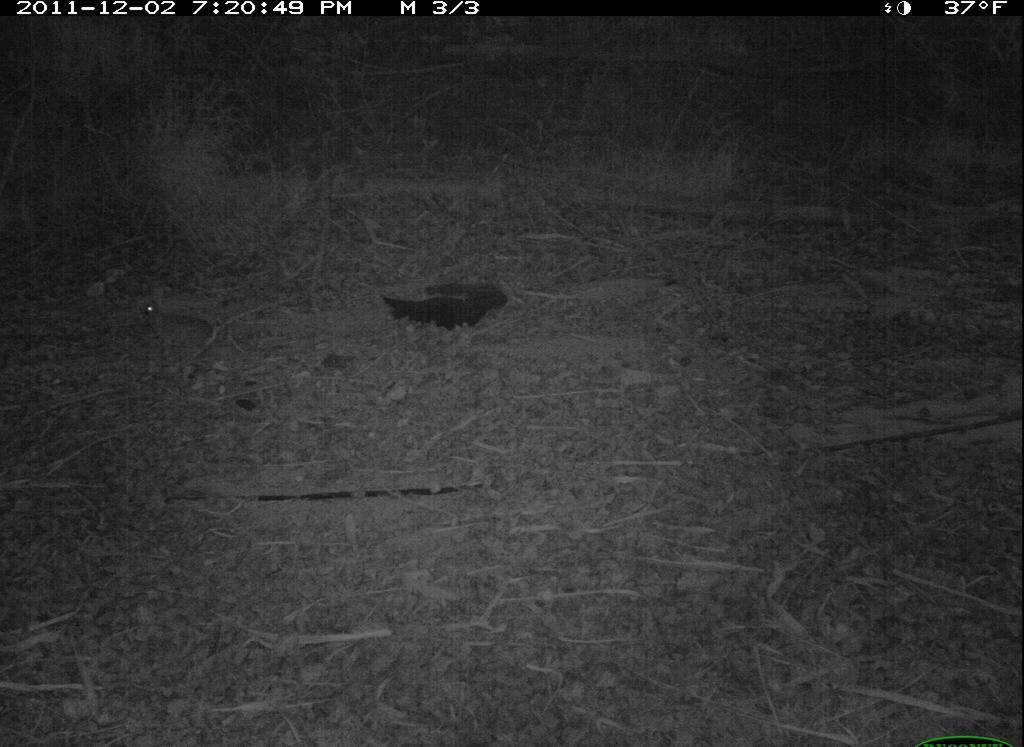rabbit: (122, 286, 232, 376)
